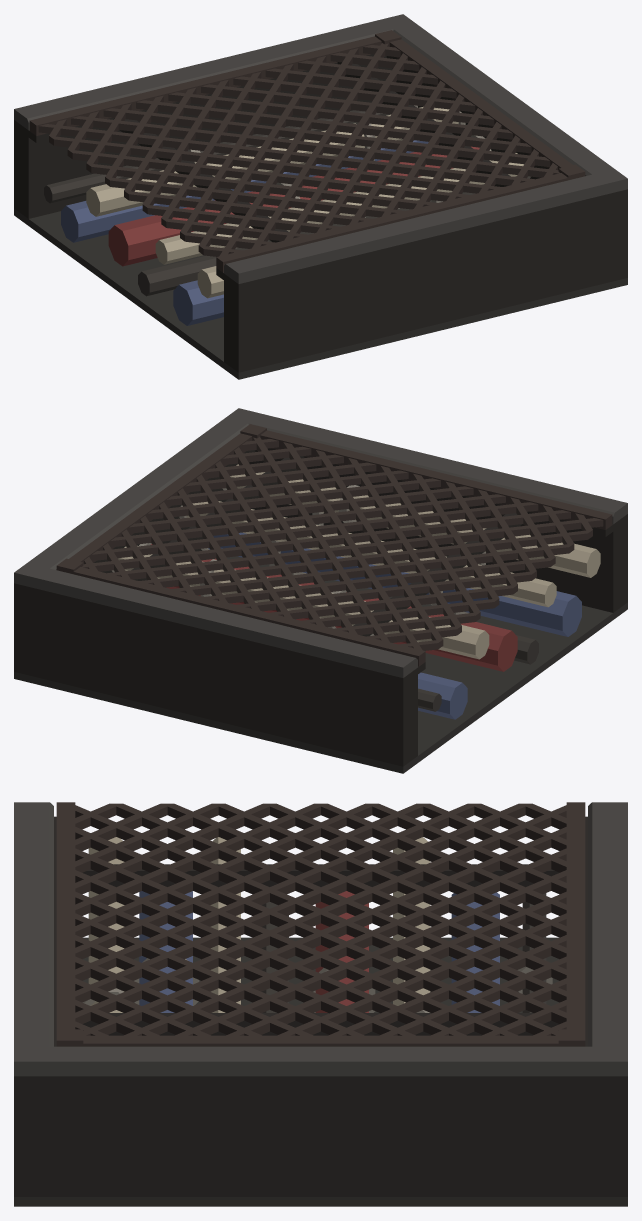
Rendered from FloorGrateOpenL.fbx.
3 renders of one model, top to bottom at view 1: azimuth 30°, elevation 25°; view 2: azimuth 150°, elevation 25°; view 3: azimuth 270°, elevation 25°, orthographic. The views are drawn at different scales.
Parts seen in each view (by area): view 1: FloorGrateOpenL_Grate, FloorGrateOpenL_Liner, FloorGrateOpenL_Frame, FloorGrateOpenL_PitFloor, FloorGrateOpenL_PipeCream, FloorGrateOpenL_PipeBlue, FloorGrateOpenL_PipeDark, FloorGrateOpenL_PipeRed; view 2: FloorGrateOpenL_Grate, FloorGrateOpenL_Liner, FloorGrateOpenL_Frame, FloorGrateOpenL_PitFloor, FloorGrateOpenL_PipeCream, FloorGrateOpenL_PipeBlue, FloorGrateOpenL_PipeRed, FloorGrateOpenL_PipeDark, FloorGrateOpenL_Fittings; view 3: FloorGrateOpenL_Grate, FloorGrateOpenL_Liner, FloorGrateOpenL_Frame, FloorGrateOpenL_PitFloor, FloorGrateOpenL_PipeCream, FloorGrateOpenL_PipeBlue, FloorGrateOpenL_PipeRed, FloorGrateOpenL_PipeDark.
Part boxes in pixels (x1,y1,x2,y2): FloorGrateOpenL_Grate: (29,30,585,272); FloorGrateOpenL_Liner: (14,54,627,372); FloorGrateOpenL_Frame: (14,14,627,283); FloorGrateOpenL_PitFloor: (14,192,627,379); FloorGrateOpenL_PipeCream: (86,106,523,298); FloorGrateOpenL_PipeBlue: (61,140,428,325); FloorGrateOpenL_PipeDark: (44,110,475,296); FloorGrateOpenL_PipeRed: (108,146,479,266); FloorGrateOpenL_Grate: (56,424,612,666); FloorGrateOpenL_Liner: (14,448,627,766); FloorGrateOpenL_Frame: (14,408,627,677); FloorGrateOpenL_PitFloor: (14,556,627,773); FloorGrateOpenL_PipeCream: (118,464,600,659); FloorGrateOpenL_PipeBlue: (208,532,581,719); FloorGrateOpenL_PipeRed: (151,544,517,671); FloorGrateOpenL_PipeDark: (418,635,538,711); FloorGrateOpenL_Fittings: (112,485,485,635); FloorGrateOpenL_Grate: (56,802,585,1046); FloorGrateOpenL_Liner: (14,816,627,1196); FloorGrateOpenL_Frame: (14,802,627,1076); FloorGrateOpenL_PitFloor: (14,937,627,1206); FloorGrateOpenL_PipeCream: (88,837,430,1012); FloorGrateOpenL_PipeBlue: (139,891,499,1012); FloorGrateOpenL_PipeRed: (315,891,368,1012); FloorGrateOpenL_PipeDark: (261,893,546,1012).
Bounding box in the file's own units: 11.5 × 3.06 × 11.5.
